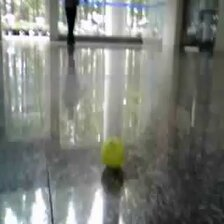tennis: (101, 137, 125, 166)
